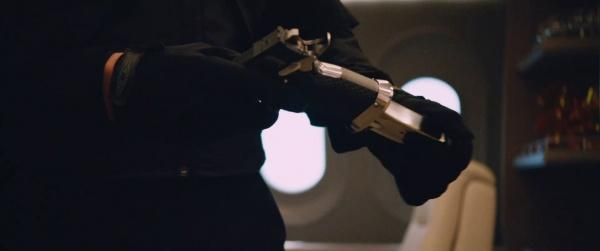Gun: (228, 27, 450, 159)
